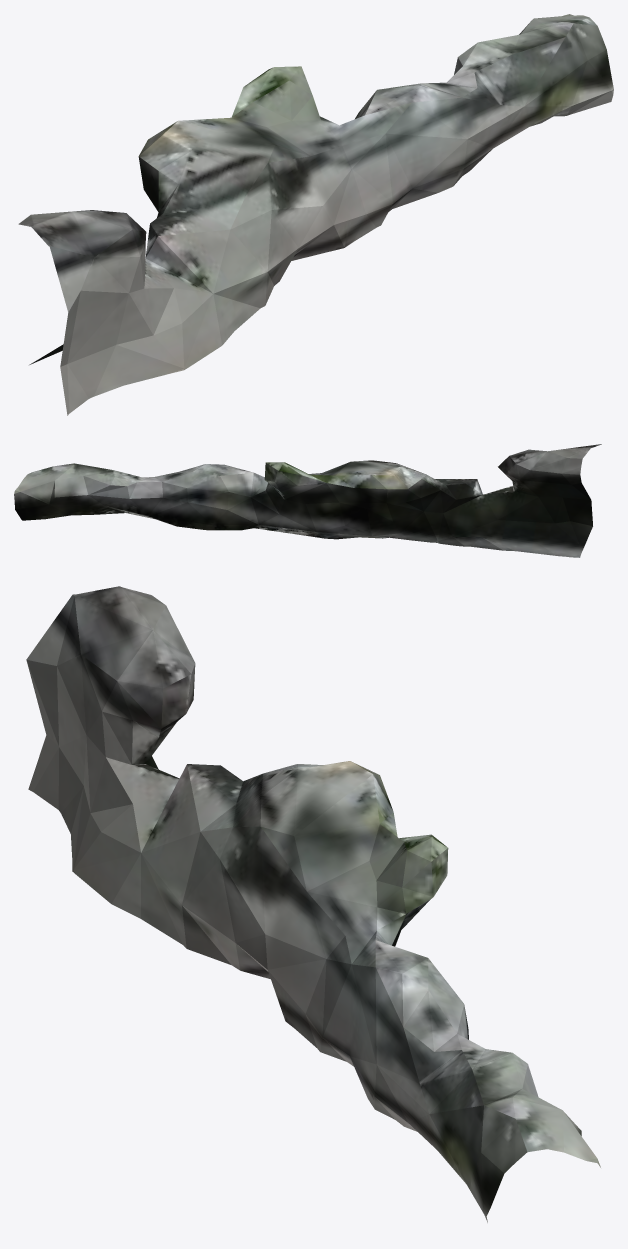
3 renders of one model, top to bottom at view 1: azimuth 30°, elevation 25°; view 2: azimuth 150°, elevation 25°; view 3: azimuth 270°, elevation 25°, orthographic. The views are drawn at different scales.
Bounding box in the file's own units: 0.8373 × 0.1785 × 0.4572.
Materials: 1 (1 with a texture image).
